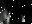person: (3, 10, 14, 24), (18, 12, 25, 22)
